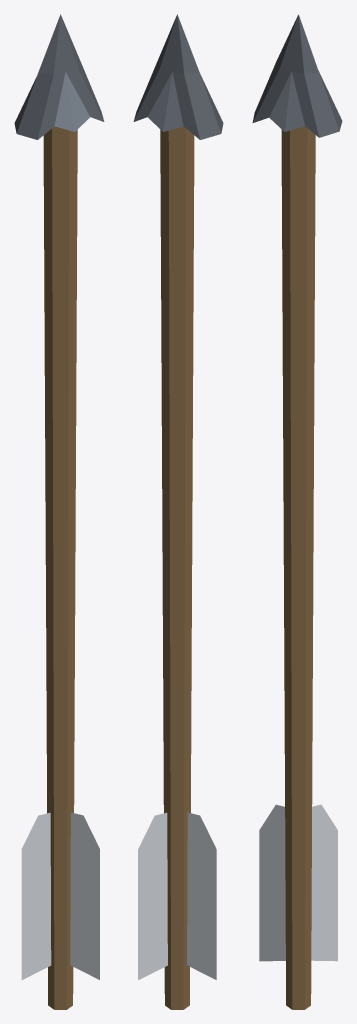
File: Arrow.fbx
3 renders of one model, left to right at view 1: azimuth 30°, elevation 25°; view 2: azimuth 150°, elevation 25°; view 3: azimuth 330°, elevation 25°, orthographic.
Visible parts, largest first — view 1: Arrow; view 2: Arrow; view 3: Arrow.
Part boxes in pixels (<box>): Arrow: <box>14,14,104,1009</box>; Arrow: <box>133,14,223,1009</box>; Arrow: <box>252,14,342,1009</box>.
Size of the model in its own units: 5.52 by 61.57 by 4.42.
